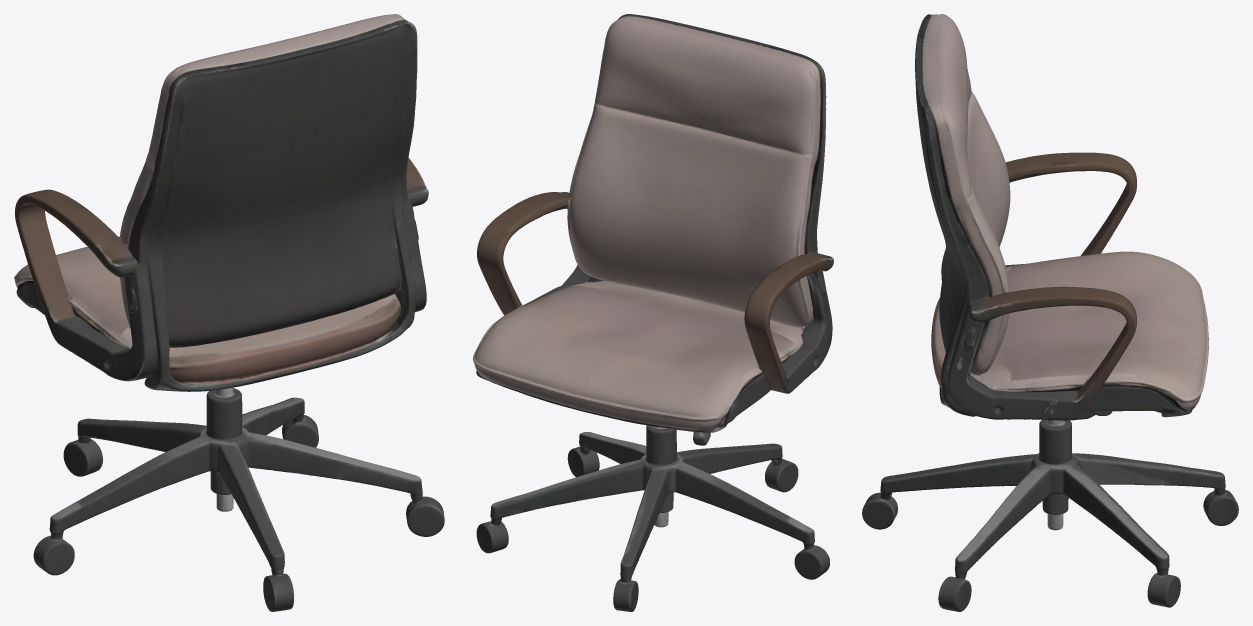
The model's file is modern_office_chair_padded_11.glb.
The picture shows the model from 3 angles, left to right: view 1: azimuth 30°, elevation 25°; view 2: azimuth 150°, elevation 25°; view 3: azimuth 270°, elevation 25°; orthographic projection. The views are drawn at different scales.
Visible parts, largest first — view 1: tripo_node_dec22961-8003-4616-9c70-4297b181aaa3; view 2: tripo_node_dec22961-8003-4616-9c70-4297b181aaa3; view 3: tripo_node_dec22961-8003-4616-9c70-4297b181aaa3.
Part boxes in pixels (x1,y1,x2,y2): tripo_node_dec22961-8003-4616-9c70-4297b181aaa3: [14, 14, 444, 611]; tripo_node_dec22961-8003-4616-9c70-4297b181aaa3: [473, 14, 833, 611]; tripo_node_dec22961-8003-4616-9c70-4297b181aaa3: [862, 14, 1238, 611].
Size of the model in its own units: 0.7026 by 1 by 0.7035.
1 material, 1 textured.
